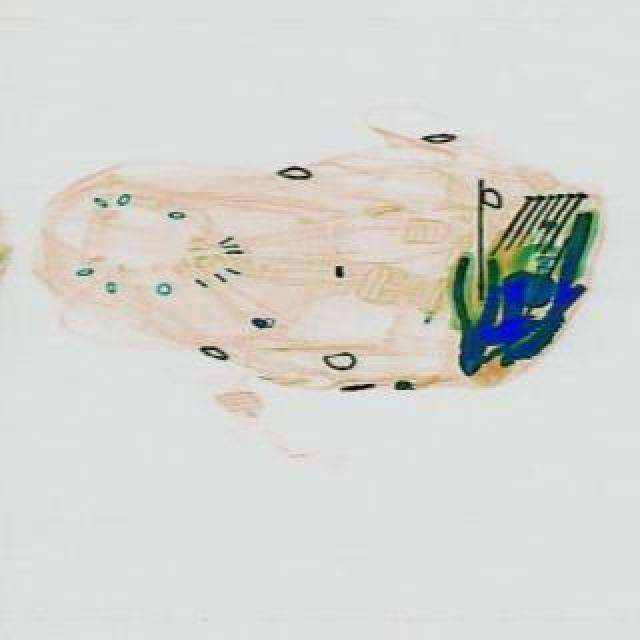wrench: (438, 262, 502, 380)
